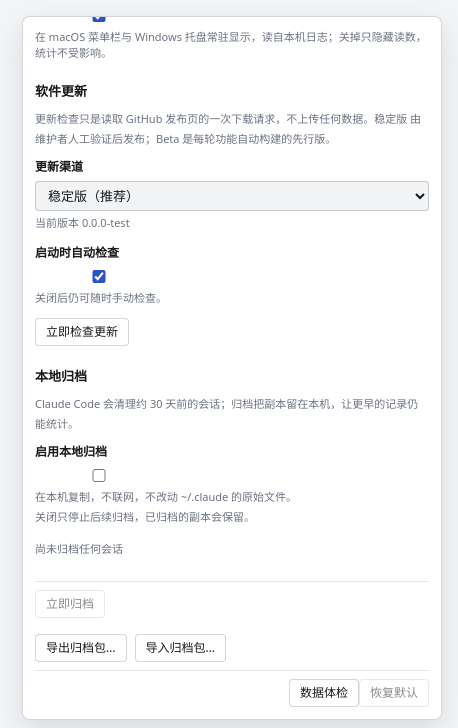
Scenario: 本地归档 section › enabling runs a full archive and reports the completion summary
(page scrolled)
Click the checkbox labelled "启用本地归档". click: [99, 476]
box: [39,469,159,482]
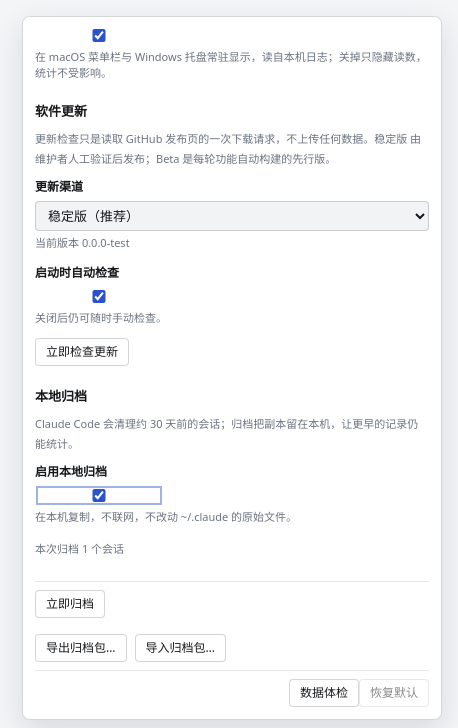
Now the text "本次归档 1 个会话" is shown, box [35,541,124,556]
Now the button "立即归档" is enabled, box [35,590,105,618]
